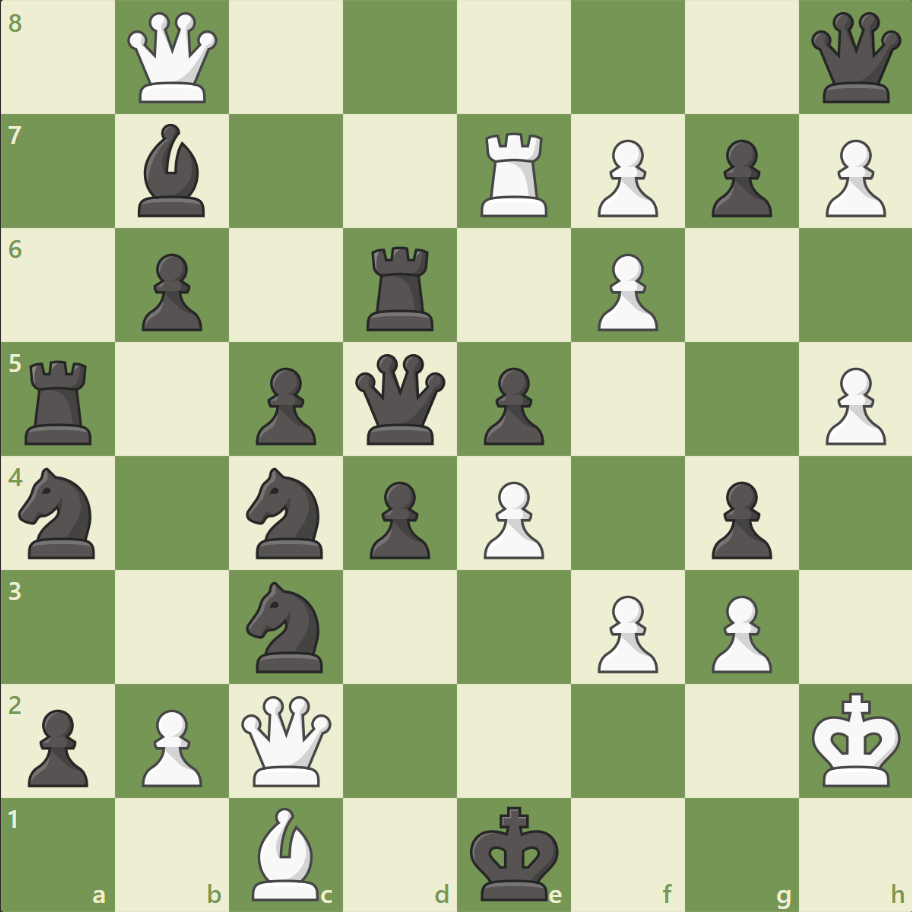B: (244, 801, 328, 904)
K: (806, 685, 906, 793)
P: (474, 473, 549, 564), (701, 586, 776, 677), (133, 700, 208, 791), (588, 132, 662, 223), (815, 132, 889, 223), (588, 246, 662, 337), (815, 359, 889, 450), (588, 586, 662, 677)
Q: (124, 9, 223, 108), (237, 690, 336, 789)
R: (473, 125, 556, 222)
b: (131, 120, 215, 222)
k: (465, 798, 565, 906)
n: (11, 461, 108, 564), (238, 461, 335, 564), (238, 575, 335, 677)
p: (701, 132, 776, 223), (133, 246, 208, 337), (247, 359, 322, 450), (474, 359, 549, 450), (701, 473, 776, 564), (20, 700, 95, 791), (361, 473, 435, 564)
q: (351, 349, 450, 449), (805, 9, 904, 108)
r: (19, 352, 102, 449), (360, 239, 442, 336)
